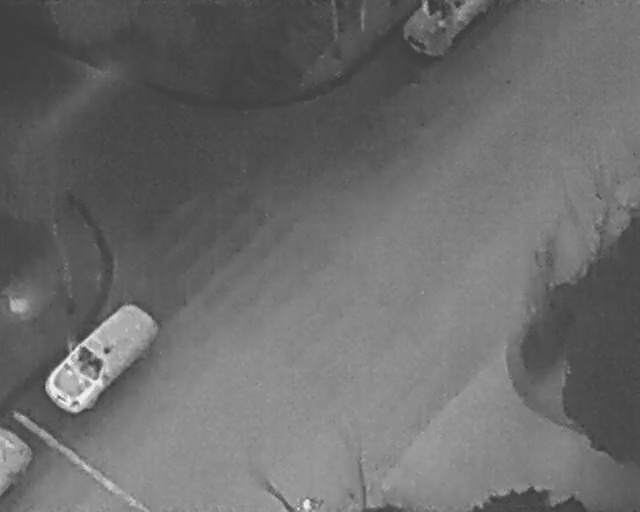Car: (36, 295, 168, 425)
